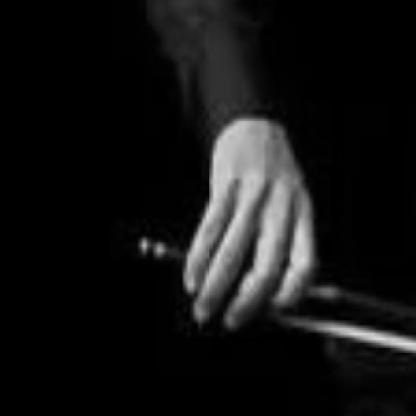good: (175, 123, 323, 336)
